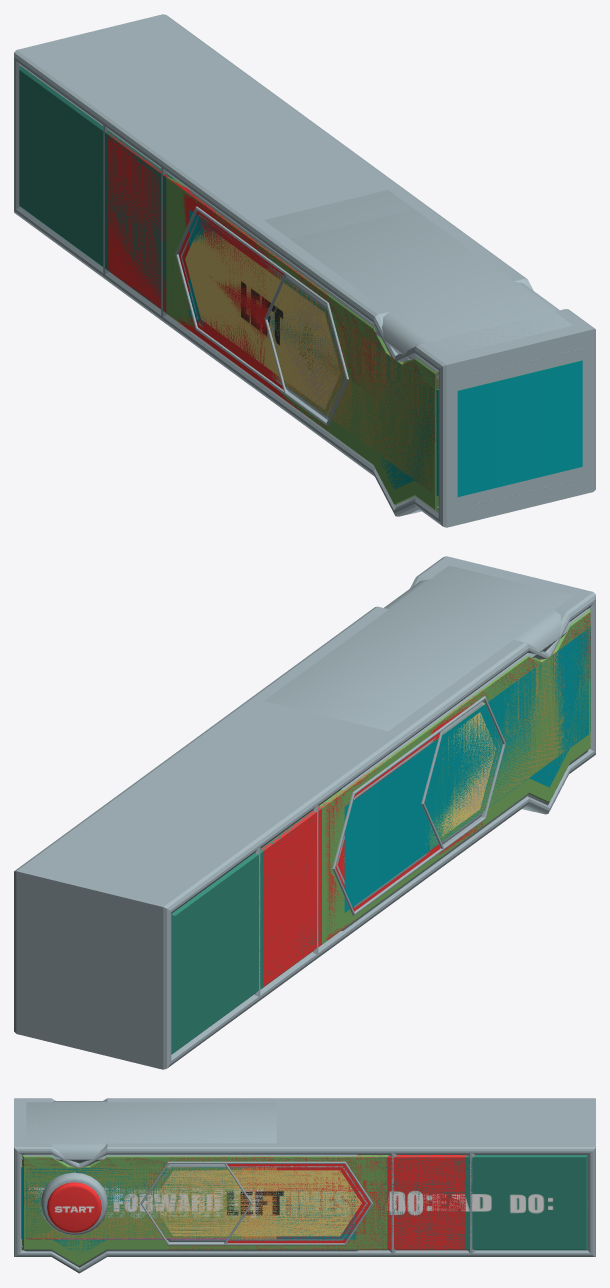
File: Blocks_BlockProgramming-WithJoins.fbx
The picture shows the model from 3 angles, top to bottom: view 1: azimuth 30°, elevation 25°; view 2: azimuth 150°, elevation 25°; view 3: azimuth 270°, elevation 25°; orthographic projection. The views are drawn at different scales.
Parts seen in each view (by area): view 1: CONTROL_FOR_REPEAT, ActionBlock_Turn_Empty, CONTROL_IF, ActionBlock_Forward, MainBlock, ActionBlock_GetHumidity, Action_Left, Numbers; view 2: CONTROL_IF, ActionBlock_Turn_Empty, CONTROL_FOR_REPEAT, ActionBlock_Forward, MainBlock, ActionBlock_GetHumidity, Action_Left; view 3: CONTROL_IF, ActionBlock_Turn_Empty, CONTROL_FOR_REPEAT, ActionBlock_Forward, Action_Left, ActionBlock_GetHumidity, MainBlock, Numbers.
Boxes of the visible parts, x1=… form: CONTROL_FOR_REPEAT: x1=103, y1=79, x2=595, y2=446; ActionBlock_Turn_Empty: x1=161, y1=122, x2=595, y2=527; CONTROL_IF: x1=14, y1=14, x2=595, y2=445; ActionBlock_Forward: x1=276, y1=209, x2=581, y2=508; MainBlock: x1=189, y1=190, x2=582, y2=514; ActionBlock_GetHumidity: x1=249, y1=190, x2=572, y2=491; Action_Left: x1=181, y1=214, x2=344, y2=419; Numbers: x1=270, y1=279, x2=339, y2=419; CONTROL_IF: x1=14, y1=600, x2=595, y2=1069; ActionBlock_Turn_Empty: x1=177, y1=556, x2=595, y2=959; CONTROL_FOR_REPEAT: x1=104, y1=601, x2=595, y2=1002; ActionBlock_Forward: x1=294, y1=565, x2=588, y2=849; MainBlock: x1=341, y1=625, x2=590, y2=930; ActionBlock_GetHumidity: x1=264, y1=566, x2=587, y2=801; Action_Left: x1=336, y1=702, x2=499, y2=907; CONTROL_IF: x1=14, y1=1098, x2=595, y2=1256; ActionBlock_Turn_Empty: x1=14, y1=1098, x2=397, y2=1273; CONTROL_FOR_REPEAT: x1=14, y1=1098, x2=475, y2=1256; ActionBlock_Forward: x1=21, y1=1101, x2=241, y2=1246; Action_Left: x1=146, y1=1164, x2=367, y2=1241; ActionBlock_GetHumidity: x1=26, y1=1102, x2=276, y2=1239; MainBlock: x1=21, y1=1154, x2=358, y2=1267; Numbers: x1=160, y1=1164, x2=239, y2=1241.
Size of the model in its own units: 480 by 113 by 115.
